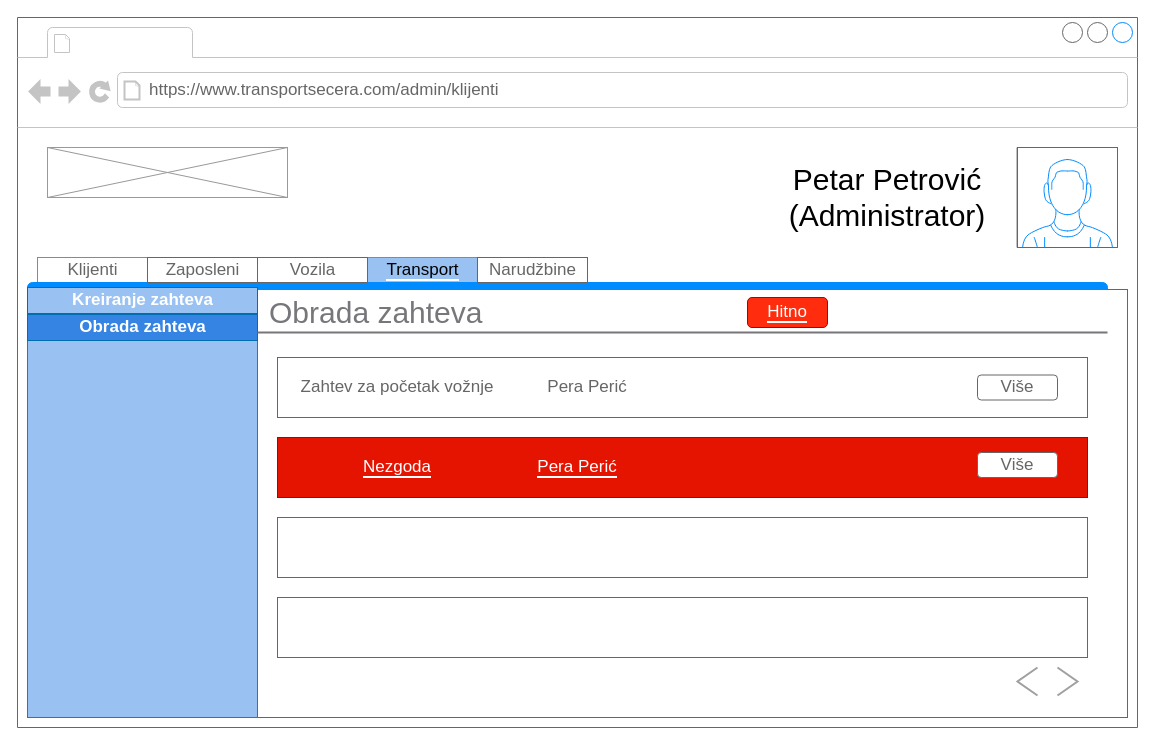
This 1155x745 diagram has some shape labels left out. The box of each missing label's shape, as (x1, y1, x2, y2) in pixels:
LOGO: (46, 146, 288, 198)
Transport šećera: (76, 26, 188, 58)
